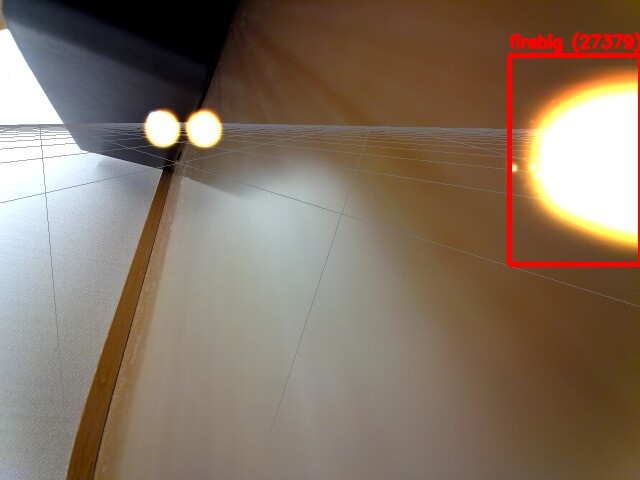firebig: (509, 55, 640, 264)
